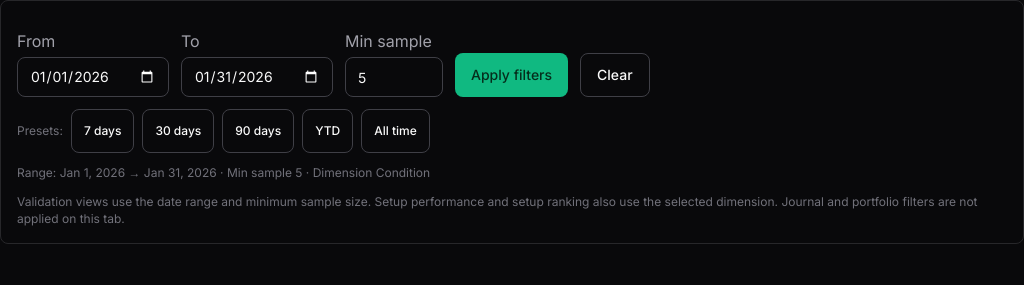
AnalyticsFilterBar Validation min_sample › rejects blank, zero, and >100 min_sample without applying
Clear the number field with test id "analytics-min-sample" at (394, 77), box 345,57 -> 443,97
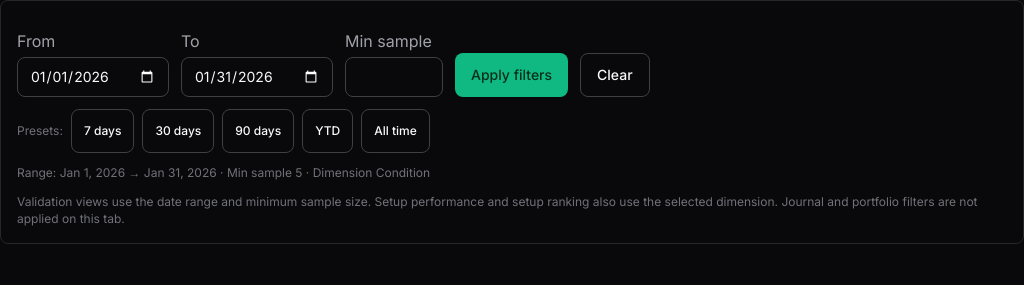
Click the button with test id "analytics-apply-filters" at (512, 75), box 455,53 -> 568,97
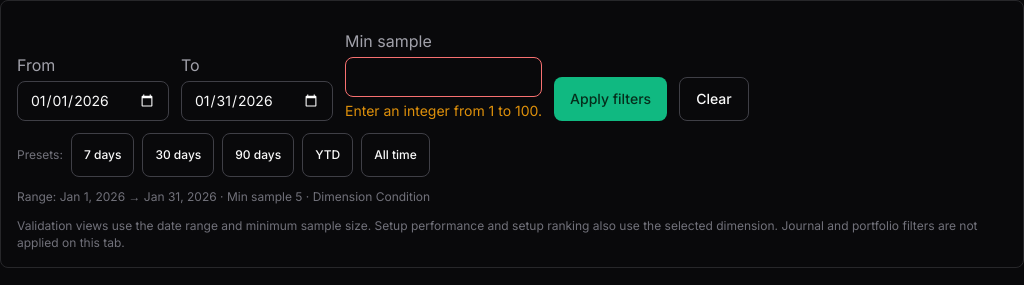
Expected: the message "Enter an integer from 1 to 100." is shown, 345,101 -> 542,121
Type "0" into the number field with test id "analytics-min-sample" at (444, 77), box 345,57 -> 542,97
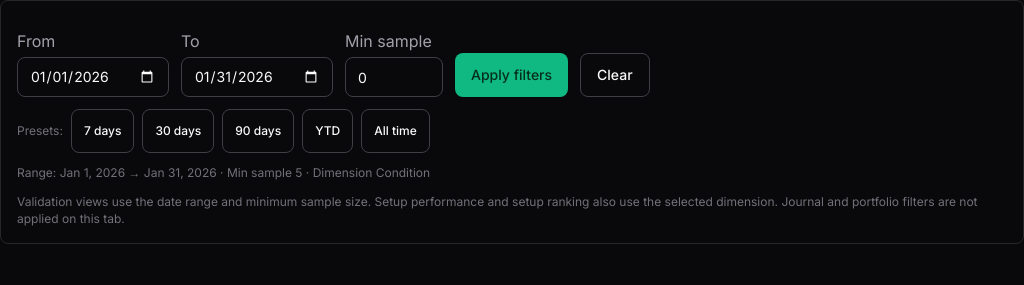
Click the button with test id "analytics-apply-filters" at (512, 75), box 455,53 -> 568,97
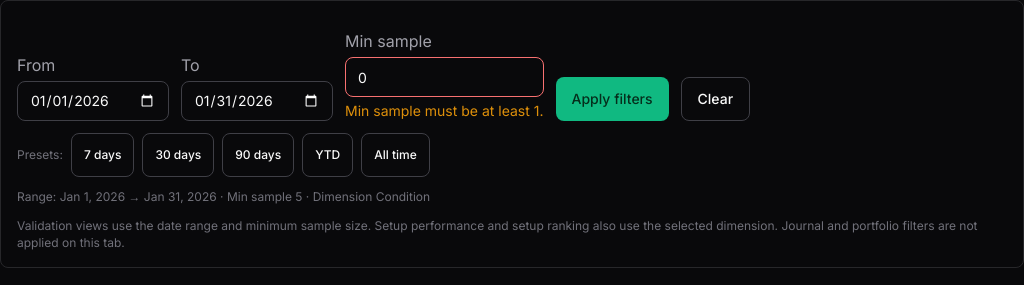
Expected: the message with test id "analytics-min-sample-error" shows "at least 1", 345,102 -> 544,119
Replace the text in the number field with test id "analytics-min-sample" with "101" at (444, 77), box 345,57 -> 544,97
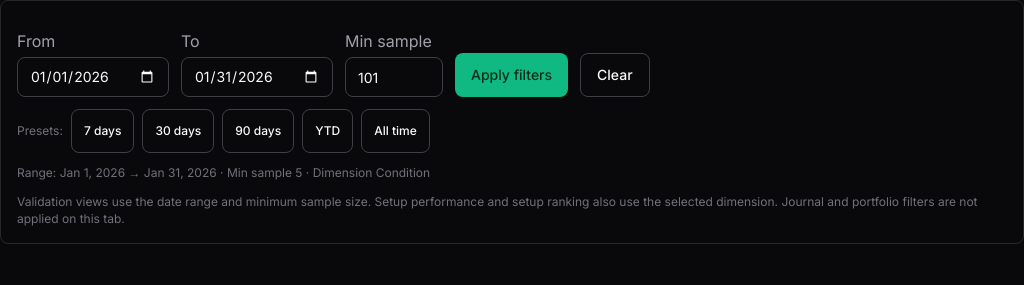
Click the button with test id "analytics-apply-filters" at (512, 75), box 455,53 -> 568,97
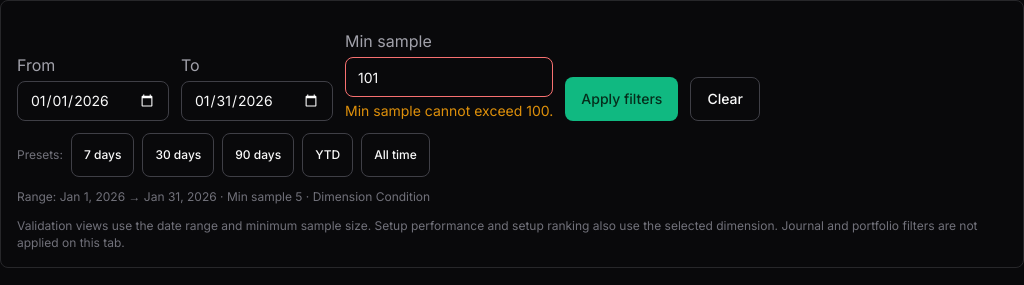
Expected: the message with test id "analytics-min-sample-error" shows "cannot exceed 100", 345,102 -> 553,119
